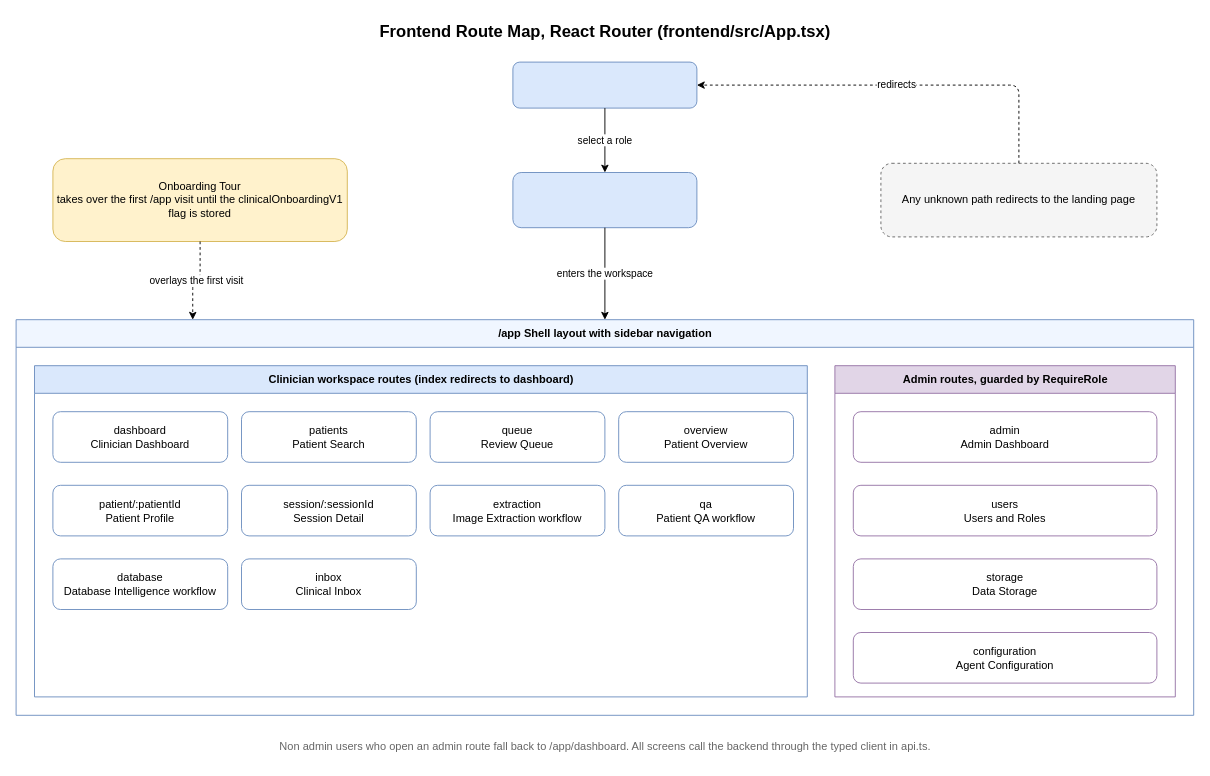
The diagram is 1210 pixels wide and 776 high, and some of its shapes have lost their labels. Each missing label, with the centre of its shape:
"/ Landing" goes at (x=604, y=84).
"/roles Role Selection clinician or admin" goes at (x=604, y=200).
